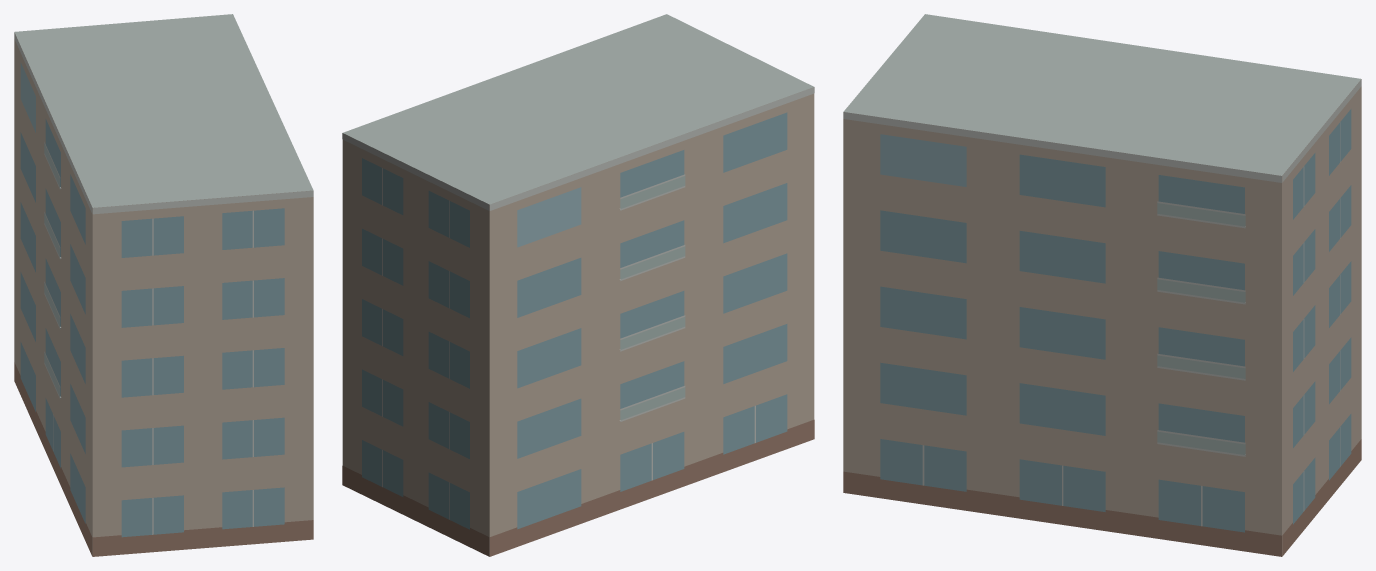
File: survey-upis-32890070.glb
3 renders of one model, left to right at view 1: azimuth 30°, elevation 25°; view 2: azimuth 150°, elevation 25°; view 3: azimuth 270°, elevation 25°, orthographic. The views are drawn at different scales.
Visible parts, largest first — view 1: survey-upis-32890070.tmp; view 2: survey-upis-32890070.tmp; view 3: survey-upis-32890070.tmp.
Boxes of the visible parts, x1=… form: survey-upis-32890070.tmp: x1=14, y1=14, x2=313, y2=556; survey-upis-32890070.tmp: x1=342, y1=14, x2=814, y2=556; survey-upis-32890070.tmp: x1=843, y1=14, x2=1361, y2=556.
Size of the model in its own units: 12 by 13.15 by 16.23.
